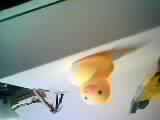duck: (66, 43, 121, 110)
